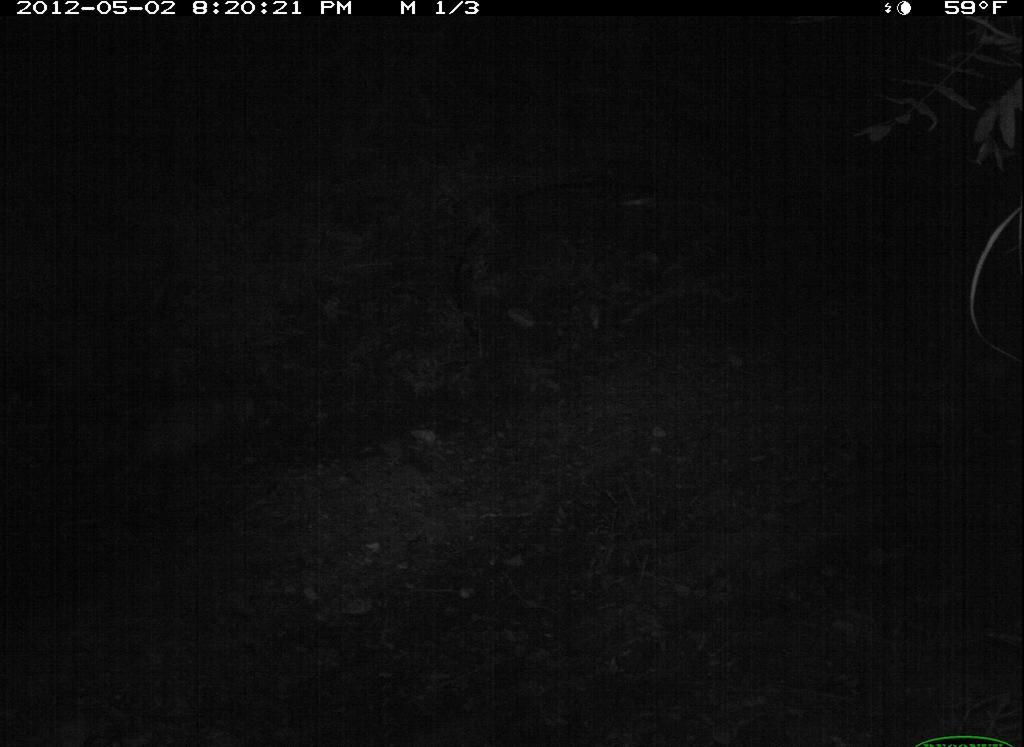opossum: (81, 373, 274, 515)
